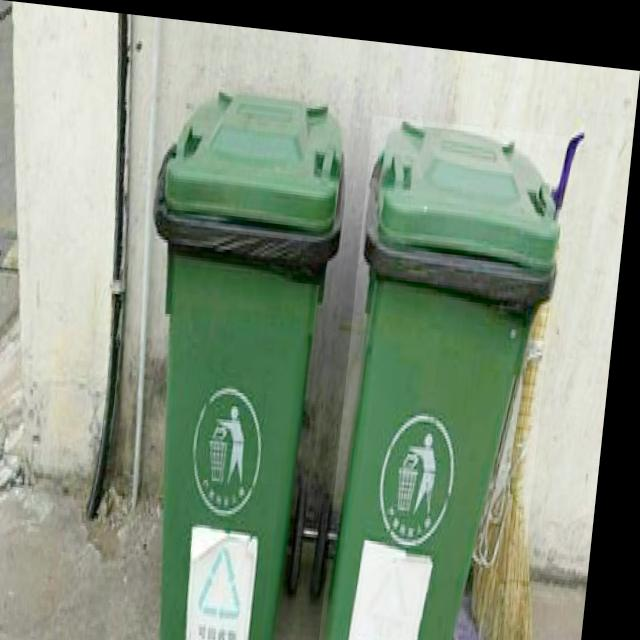garbage_bin: (118, 80, 355, 640), (329, 106, 570, 640)
